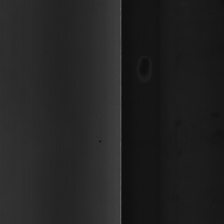oil_spot: (96, 136, 106, 145)
